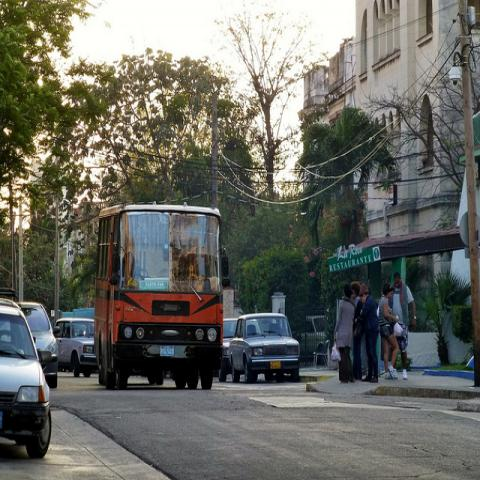bus: (95, 207, 232, 389)
car: (0, 291, 53, 460), (228, 311, 300, 384), (19, 303, 60, 388), (55, 320, 98, 380), (296, 315, 328, 360), (218, 317, 238, 382)
